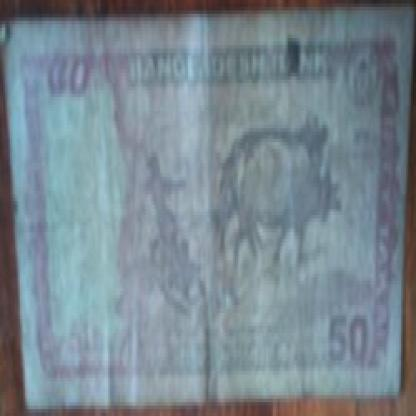Fifty taka: (38, 55, 120, 125), (316, 305, 381, 378)
